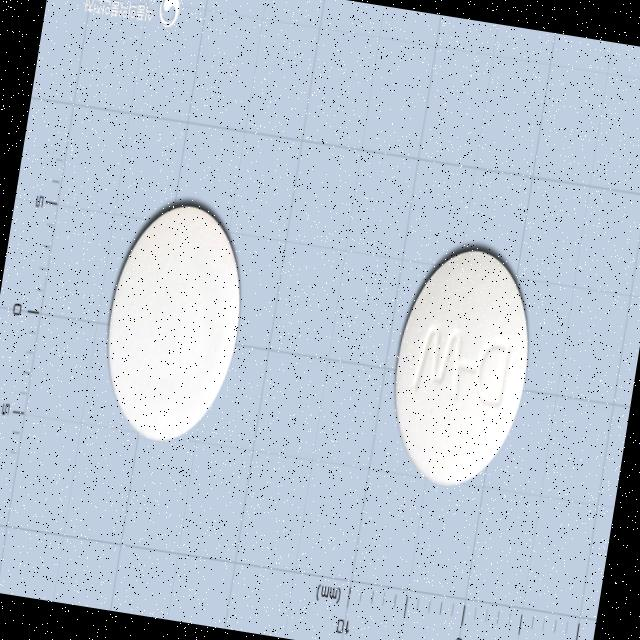Cipoxacin: (84, 190, 261, 458), (376, 234, 548, 501)
